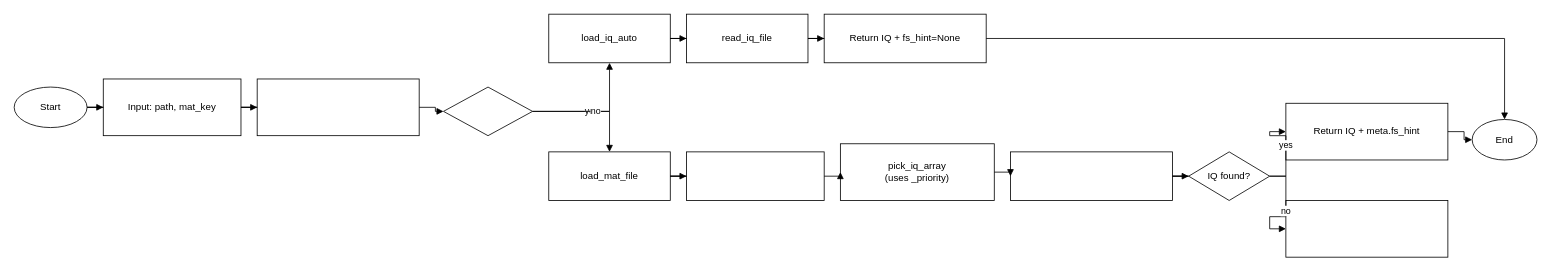
Some shapes in this 1551 by 271 pixel diagram are drawn without their labels. The centre of each missing label's shape, as x and y in pixels:
"_fs_hint_from_mat" goes at (755,175).
"_to_complex_from_array" goes at (1091,175).
"Error: key missing or no IQ array" goes at (1366,228).
"ext == .mat?" goes at (488,111).
"load_iq_auto_with_meta" goes at (337,107).
